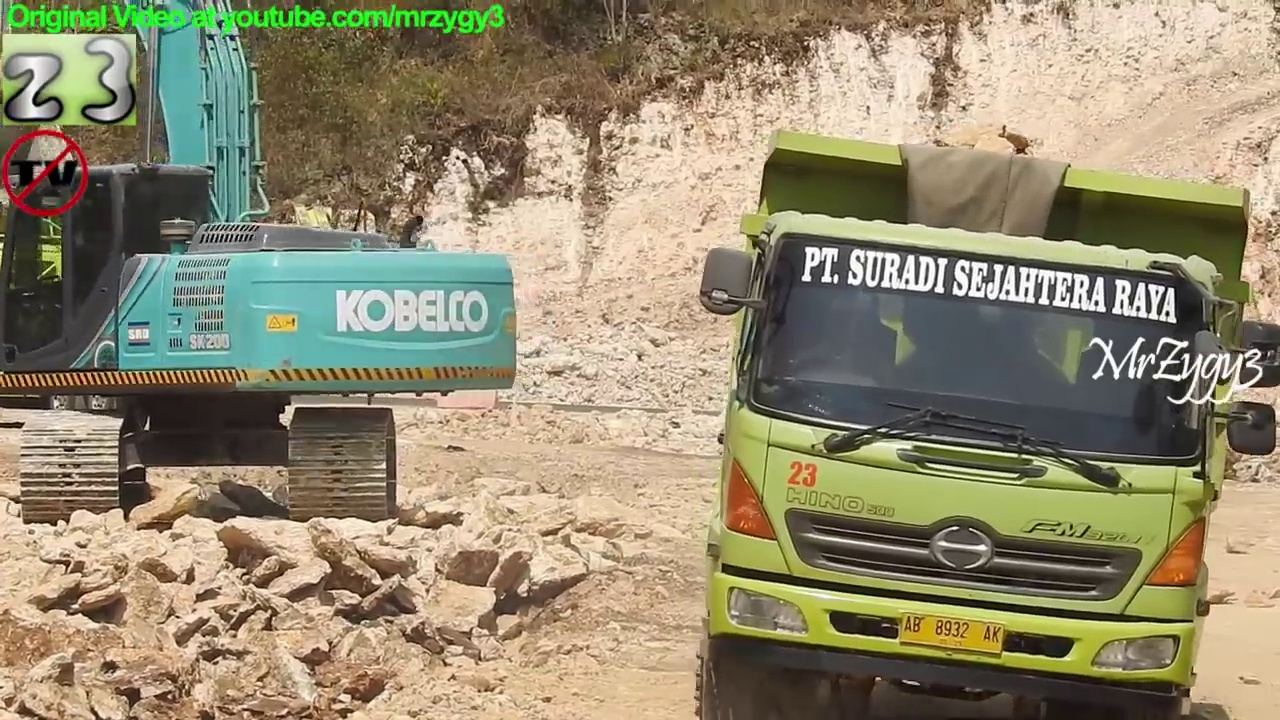excavator: (1, 1, 526, 526)
truck: (692, 127, 1280, 716)
